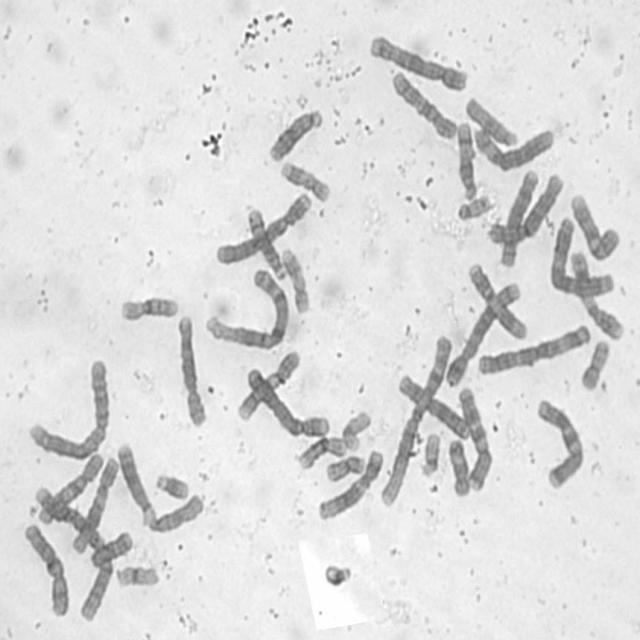A1: (377, 328, 454, 508), (202, 264, 291, 351)
A2: (31, 479, 114, 622), (25, 353, 112, 461)
A3: (475, 318, 593, 377), (546, 212, 616, 298)
B4: (212, 186, 314, 268), (243, 362, 331, 440)
B5: (442, 274, 524, 388), (366, 28, 470, 92)
C10: (34, 447, 106, 527), (387, 65, 459, 142)
C11: (567, 245, 627, 342), (464, 257, 531, 343)
C12: (314, 443, 385, 522), (68, 453, 120, 555)
C6: (486, 170, 565, 248), (469, 120, 555, 172)
C7: (533, 394, 587, 492), (454, 381, 494, 494)
C8: (497, 165, 542, 269), (174, 310, 208, 428)
C9: (234, 346, 302, 422), (566, 189, 622, 262)
D13: (265, 104, 326, 164), (114, 438, 156, 522)
D14: (244, 202, 288, 282), (452, 116, 479, 200)
D15: (462, 92, 520, 149), (142, 488, 206, 534)
E16: (295, 432, 349, 472), (117, 290, 180, 324)
E17: (277, 154, 333, 203), (278, 243, 311, 314)
E18: (87, 527, 134, 569), (444, 434, 472, 498)
F19: (339, 406, 373, 452), (112, 560, 161, 590)
F20: (578, 334, 612, 393), (324, 450, 366, 484)
G21: (152, 468, 191, 502), (320, 557, 354, 589)
G22: (417, 426, 443, 479), (454, 189, 492, 222)
X: (396, 369, 473, 441), (20, 518, 72, 618)
